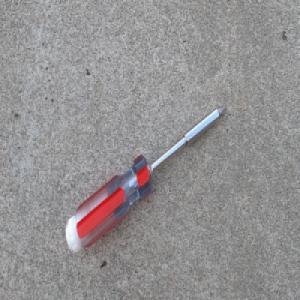Screwdriver: (64, 102, 227, 253)
